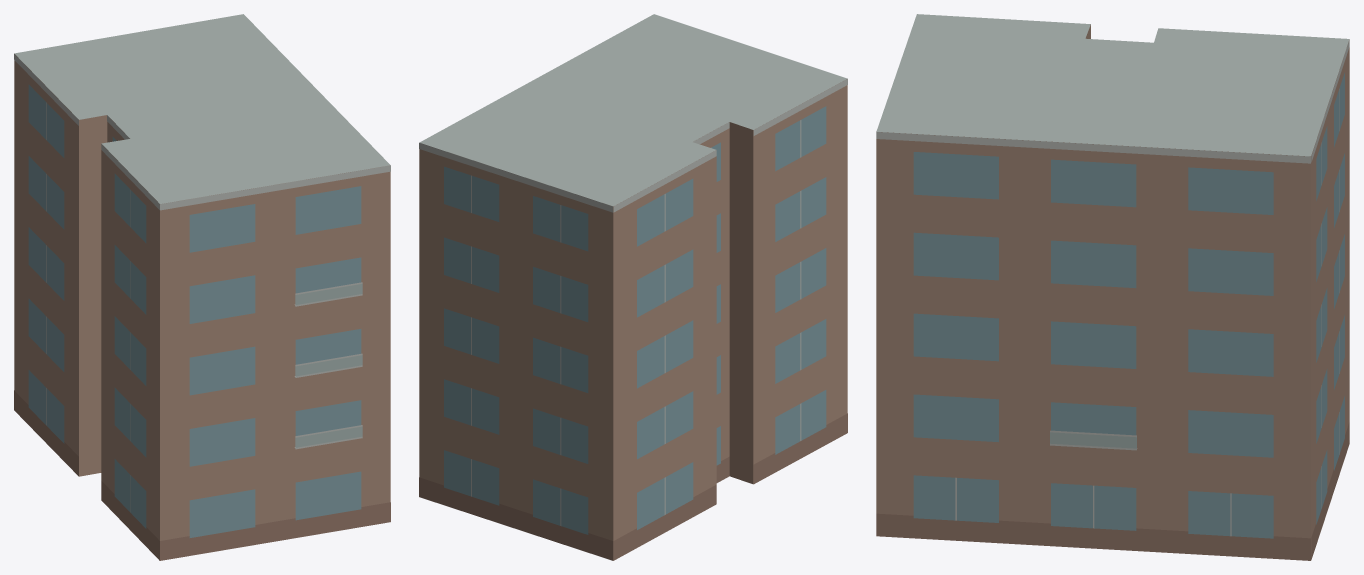
Rendered from survey-upis-32538652.glb.
3 renders of one model, left to right at view 1: azimuth 30°, elevation 25°; view 2: azimuth 150°, elevation 25°; view 3: azimuth 270°, elevation 25°, orthographic. The views are drawn at different scales.
Parts seen in each view (by area): view 1: survey-upis-32538652.tmp; view 2: survey-upis-32538652.tmp; view 3: survey-upis-32538652.tmp.
Part boxes in pixels (box(x1,y1,x2,y2)): survey-upis-32538652.tmp: box(14, 14, 390, 560); survey-upis-32538652.tmp: box(419, 14, 847, 560); survey-upis-32538652.tmp: box(876, 14, 1349, 560).
Size of the model in its own units: 10.36 by 13.7 by 14.54.
